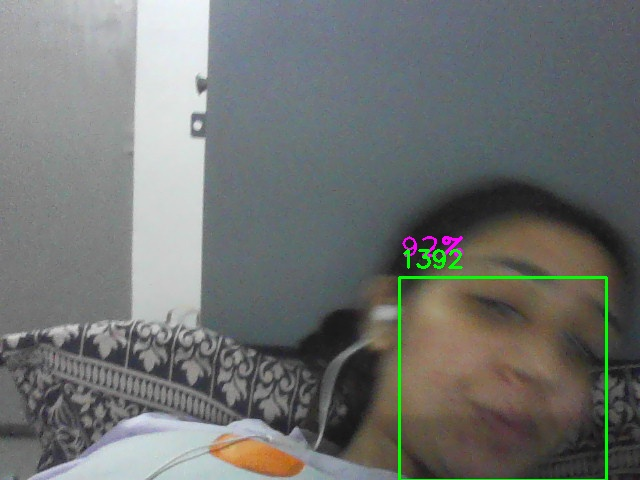real: (399, 277, 607, 480)
